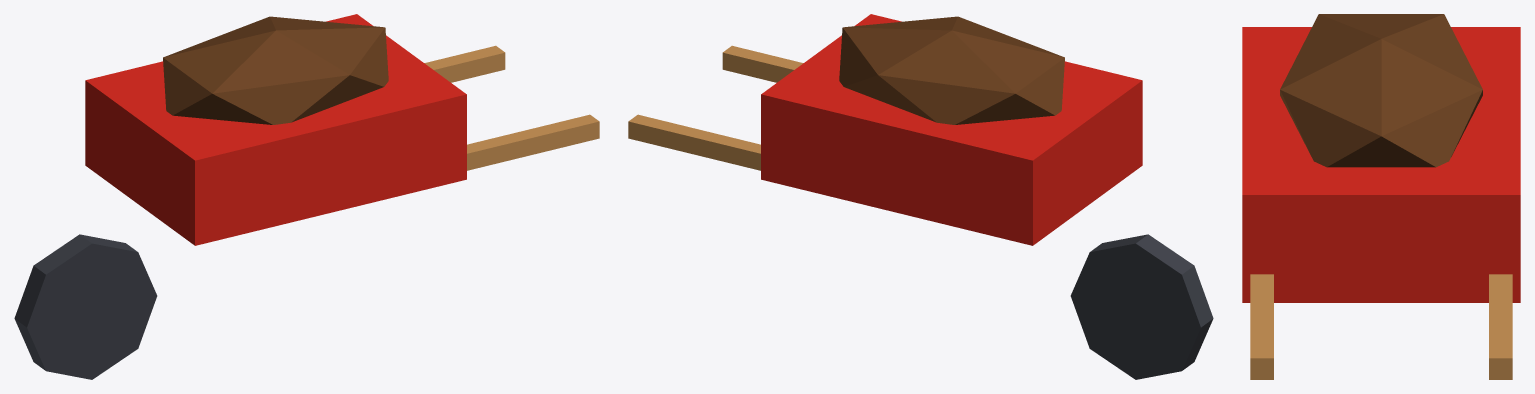
The model's file is garden2_wheelbarrow.glb.
3 renders of one model, left to right at view 1: azimuth 30°, elevation 25°; view 2: azimuth 150°, elevation 25°; view 3: azimuth 270°, elevation 25°, orthographic. The views are drawn at different scales.
Visible parts, largest first — view 1: wheelbarrow; view 2: wheelbarrow; view 3: wheelbarrow.
Boxes of the visible parts, x1,y1,x2,y2 form: wheelbarrow: (14,14,599,379); wheelbarrow: (628,14,1213,379); wheelbarrow: (1242,14,1520,379).
Size of the model in its own units: 0.97 by 0.525 by 0.35.
